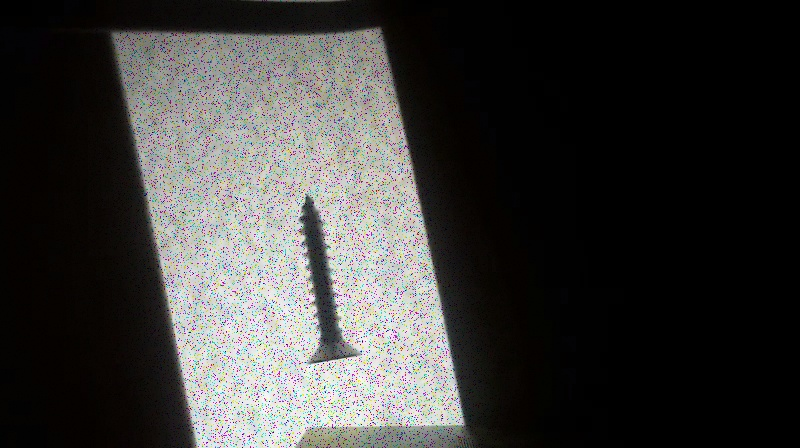S001: (292, 192, 366, 366)
